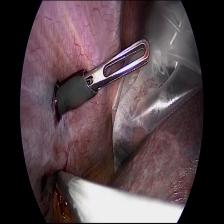Grasper: (86, 35, 151, 90)
Specimen Bag: (110, 2, 208, 168)
